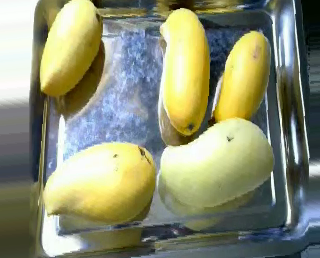Mango: (159, 116, 281, 210), (42, 138, 160, 227), (149, 5, 212, 133), (31, 0, 106, 100), (215, 28, 275, 125)
